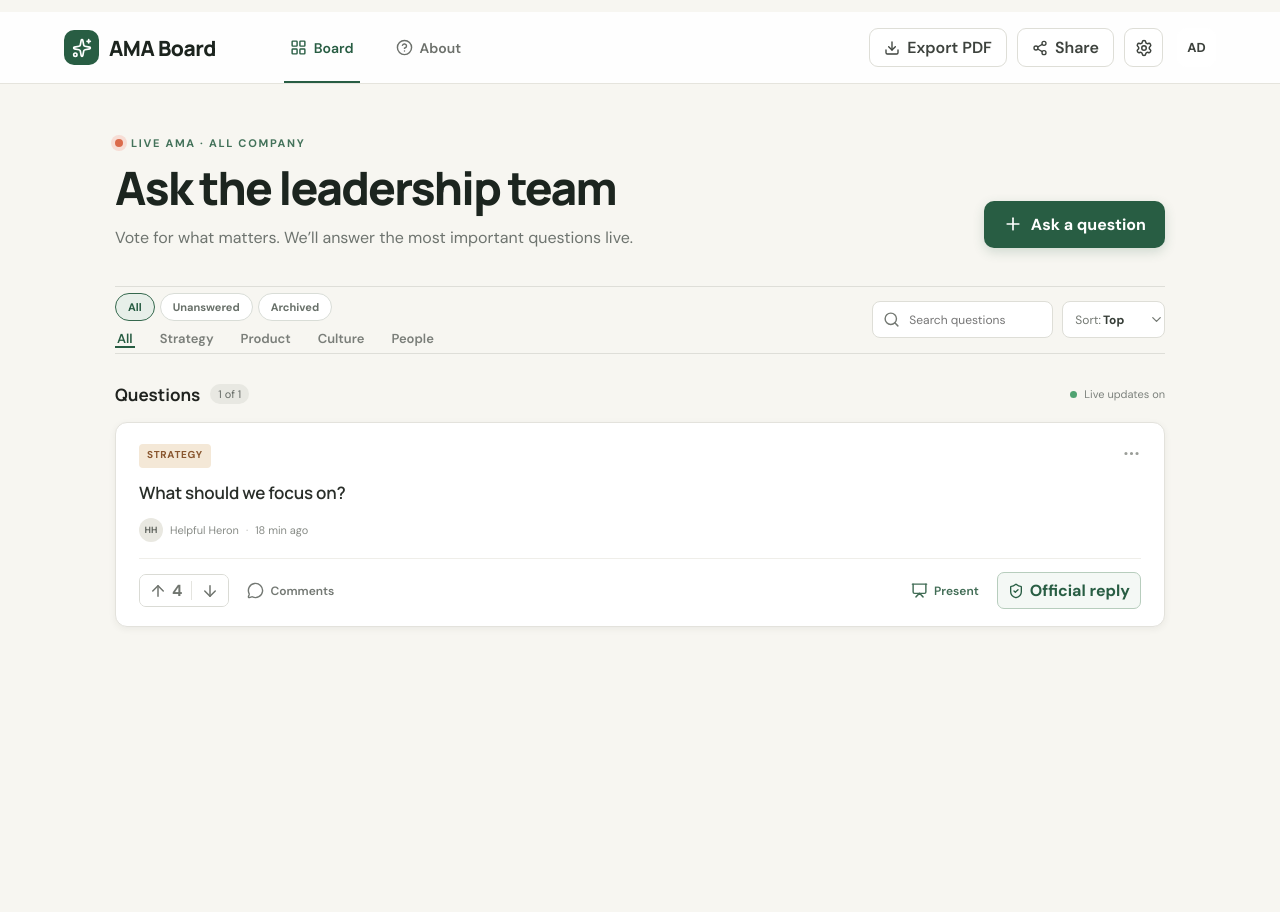
Test case: AMA board › lets an administrator post a separate official reply and closes the question
Click the button "Official reply" at (1069, 591), box [997,572,1141,609]
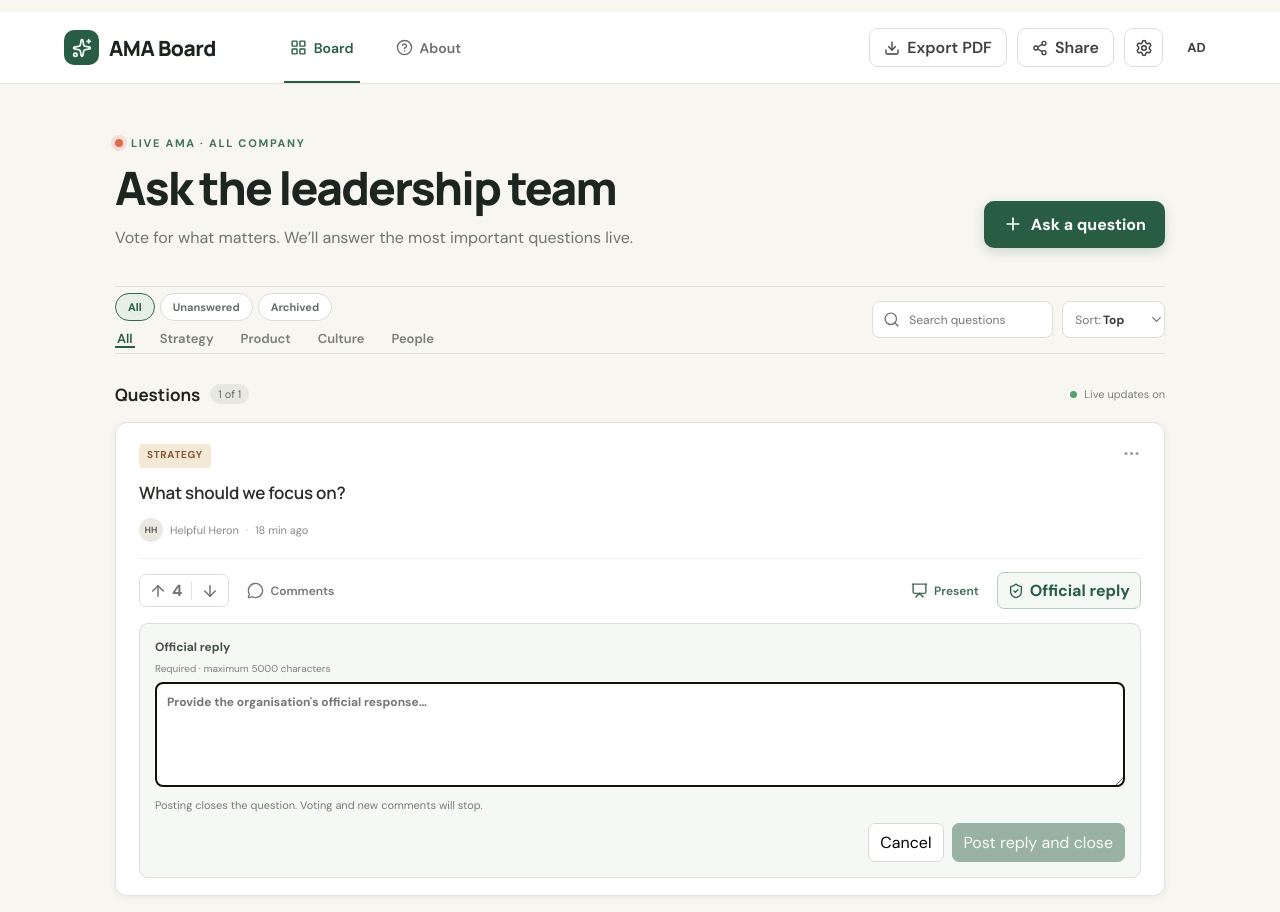
Type "Leadership has approved the proposal." into the text box with placeholder "Provide the organisation's official response…" at (640, 735), box [155,682,1125,787]
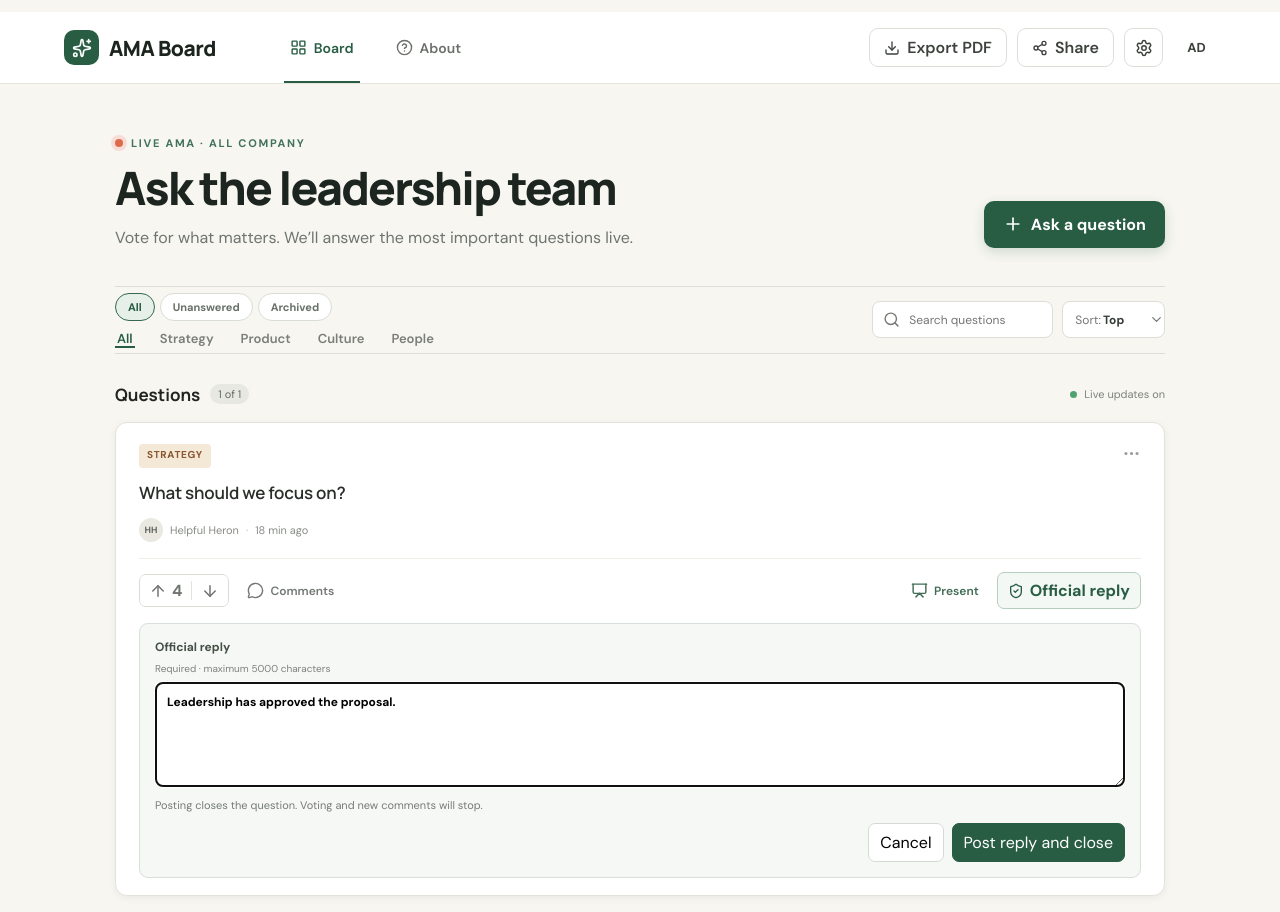
Click the button "Post reply and close" at (1038, 843), box [952,823,1125,862]
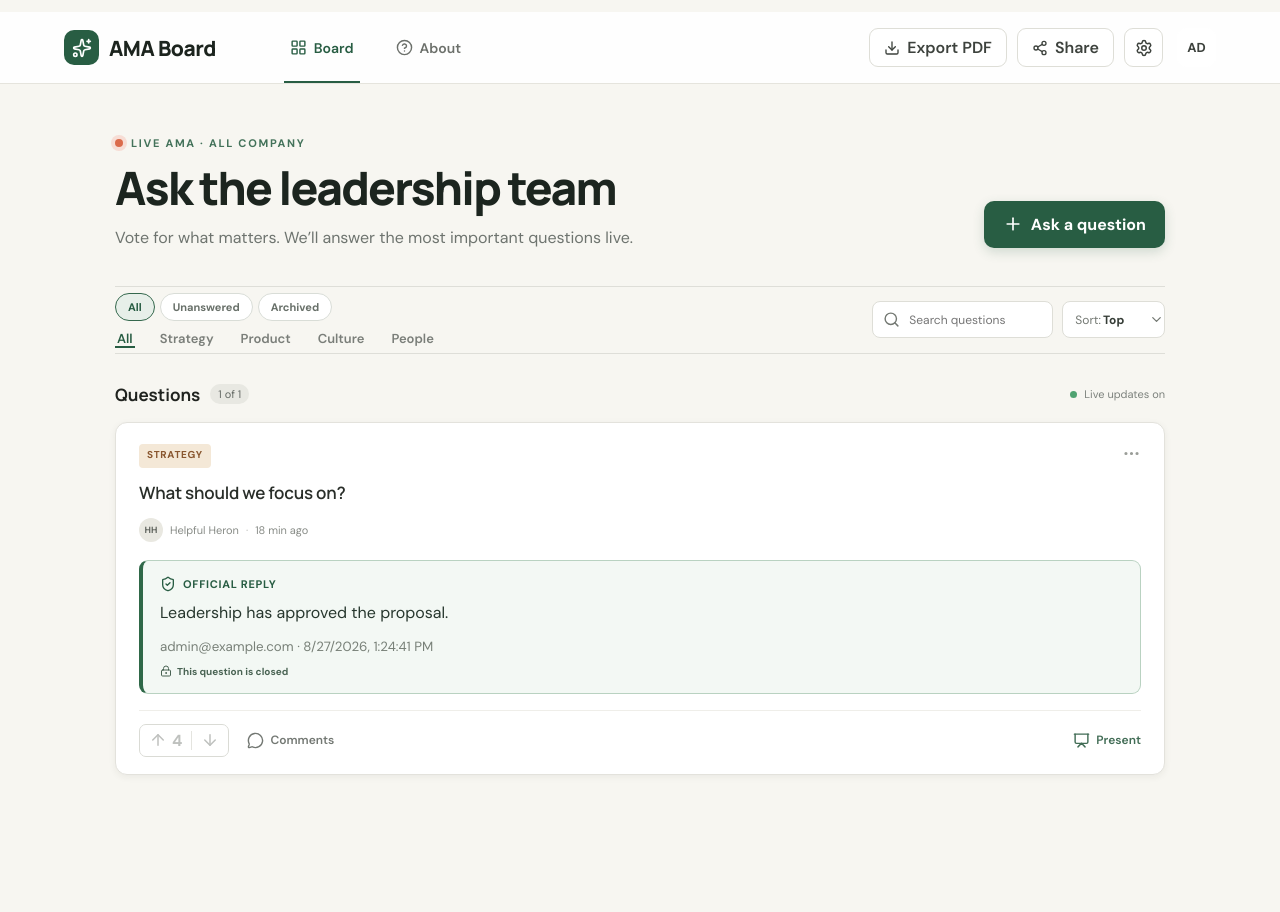
Now the text "Leadership has approved the proposal." is shown, box [160,602,448,623]
Now the text "This question is closed" is shown, box [160,665,288,678]
Click the button "Archived" at (295, 307), box [258,293,332,321]
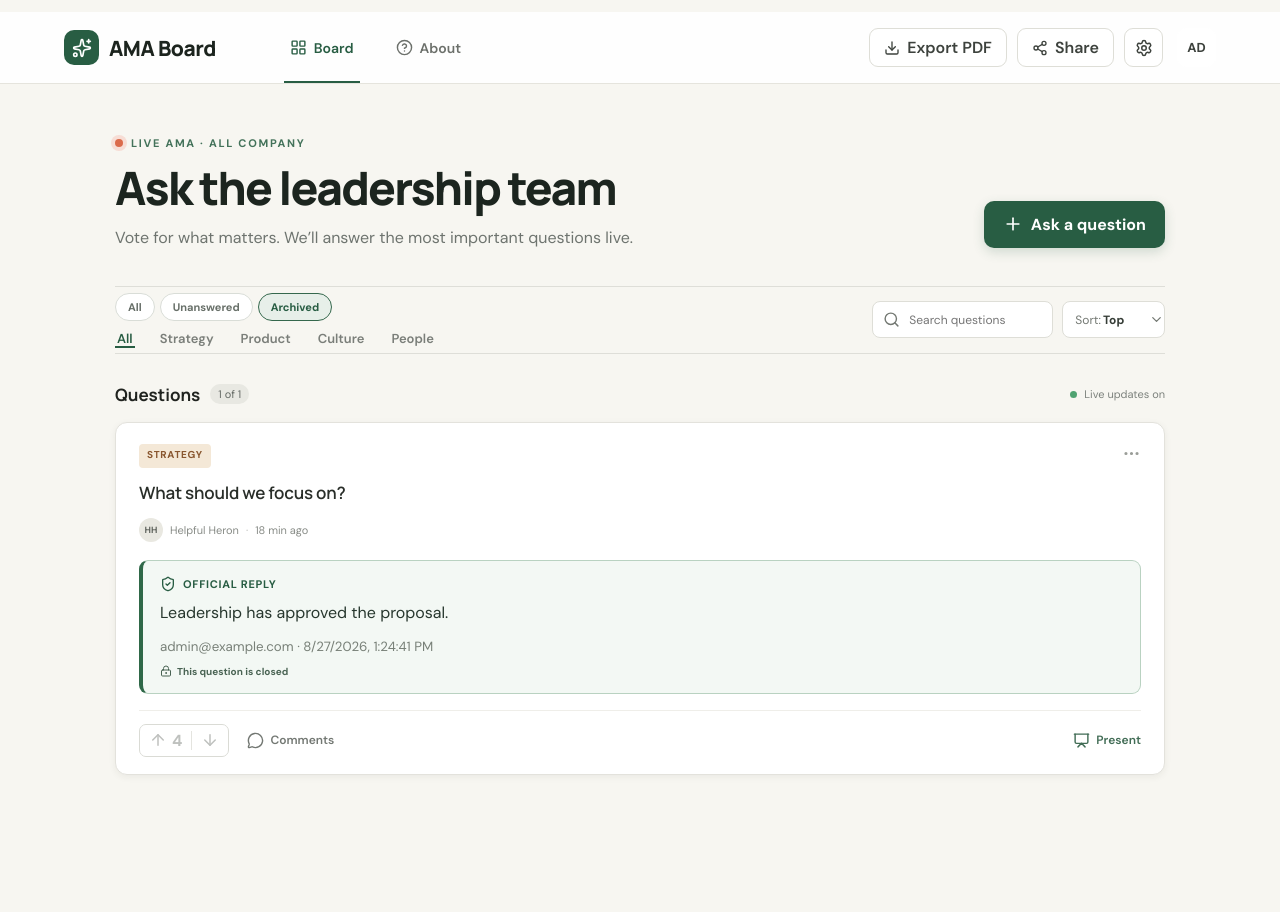
Now the text "Leadership has approved the proposal." is shown, box [160,602,448,623]
Click the button "Unanswered" at (206, 307), box [160,293,253,321]
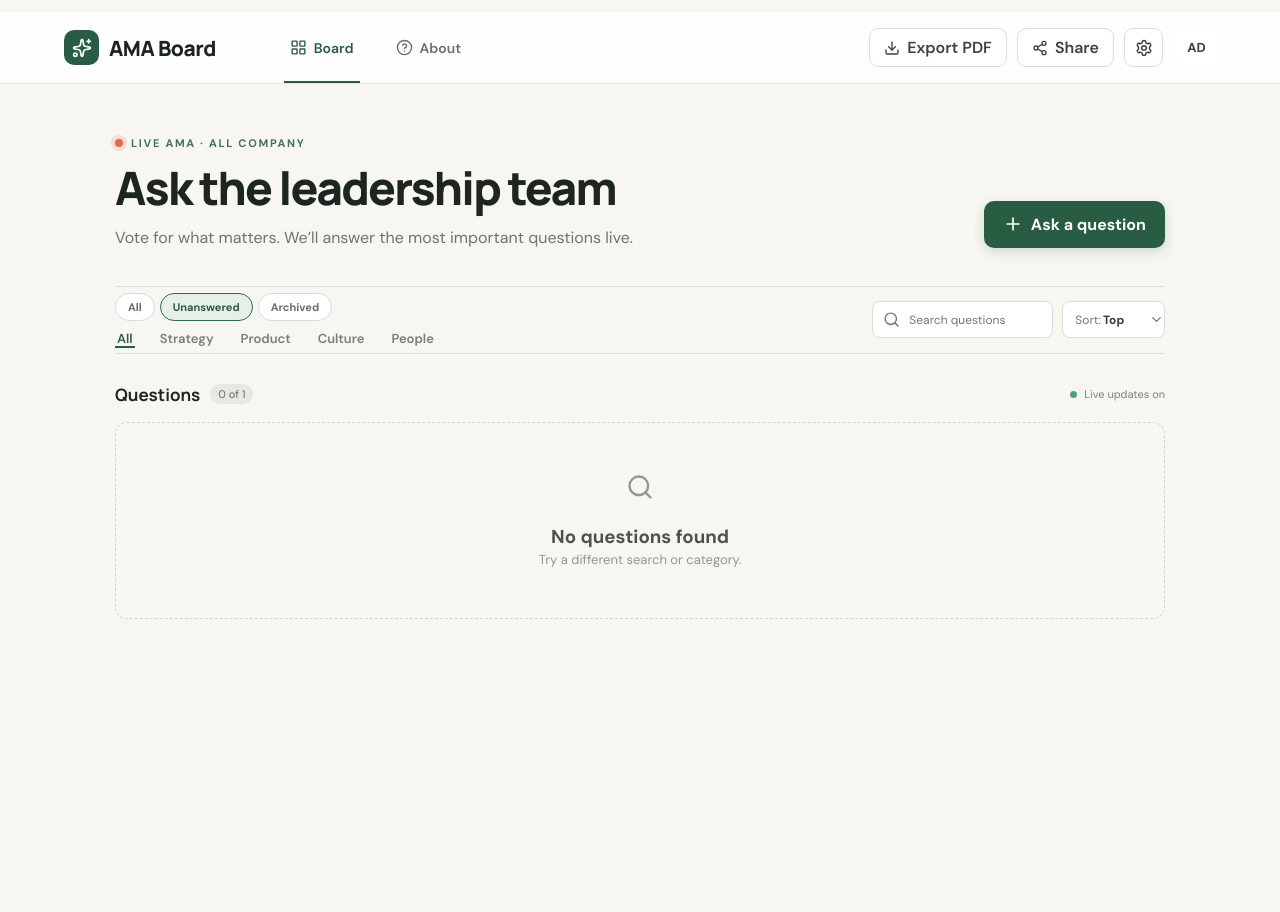
Now the text "Leadership has approved the proposal." is gone
